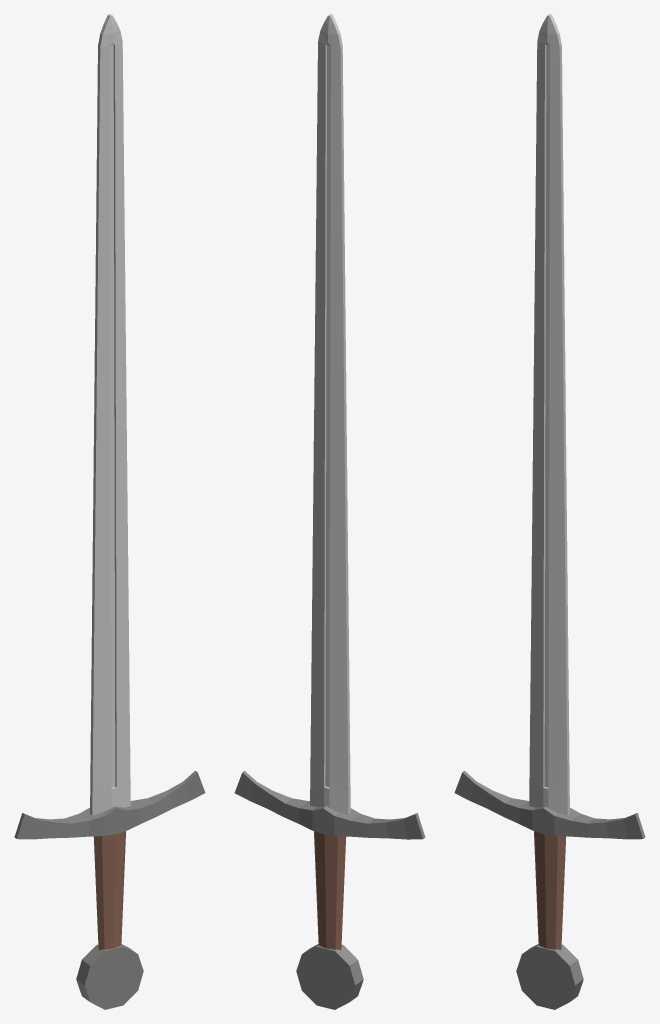
Rendered from sword.glb.
The picture shows the model from 3 angles, left to right: view 1: azimuth 30°, elevation 25°; view 2: azimuth 150°, elevation 25°; view 3: azimuth 330°, elevation 25°; orthographic projection.
Visible parts, largest first — view 1: Sword; view 2: Sword; view 3: Sword.
Part boxes in pixels (bbox=[...]): Sword: bbox=[14, 14, 205, 1009]; Sword: bbox=[234, 14, 425, 1009]; Sword: bbox=[454, 14, 645, 1009].
Size of the model in its own units: 0.3269 by 1.64 by 0.04.
